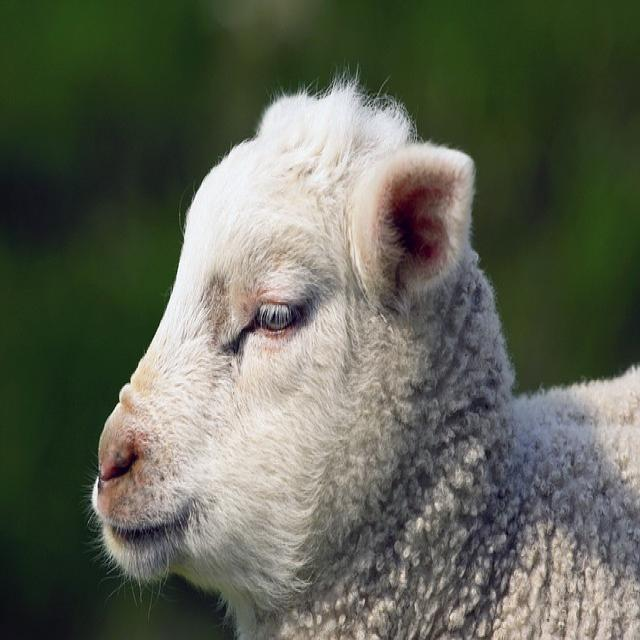sheep: (84, 66, 639, 639)
